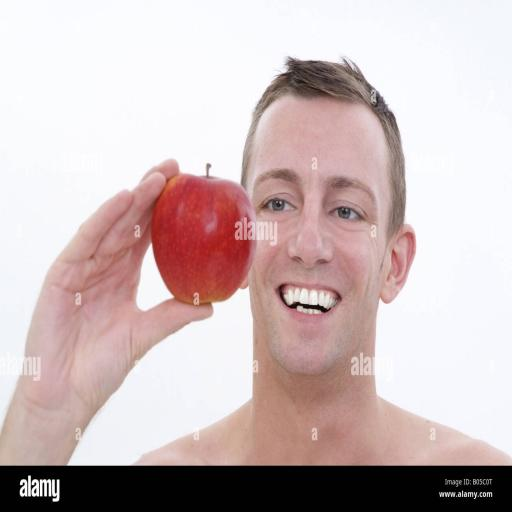apple: (152, 164, 256, 303)
